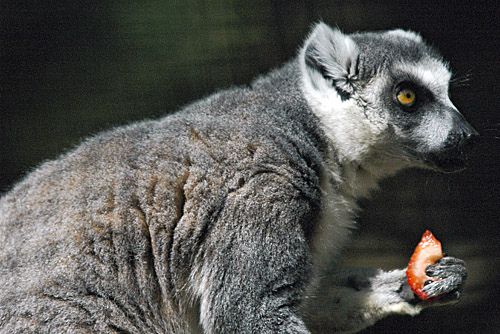cat: (0, 21, 481, 333)
